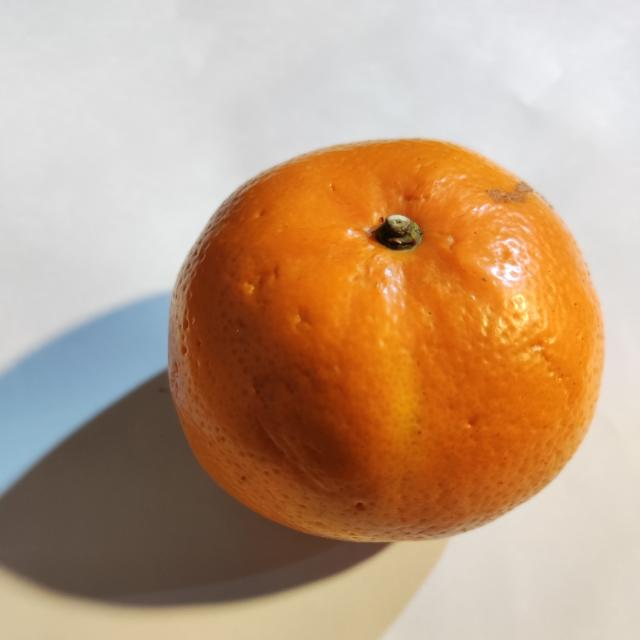orange: (170, 140, 603, 540)
